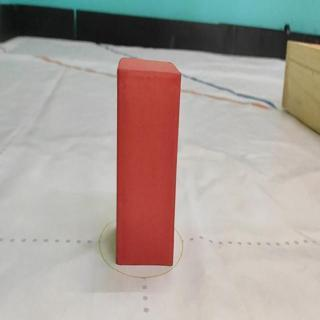redbox: (115, 55, 182, 266)
